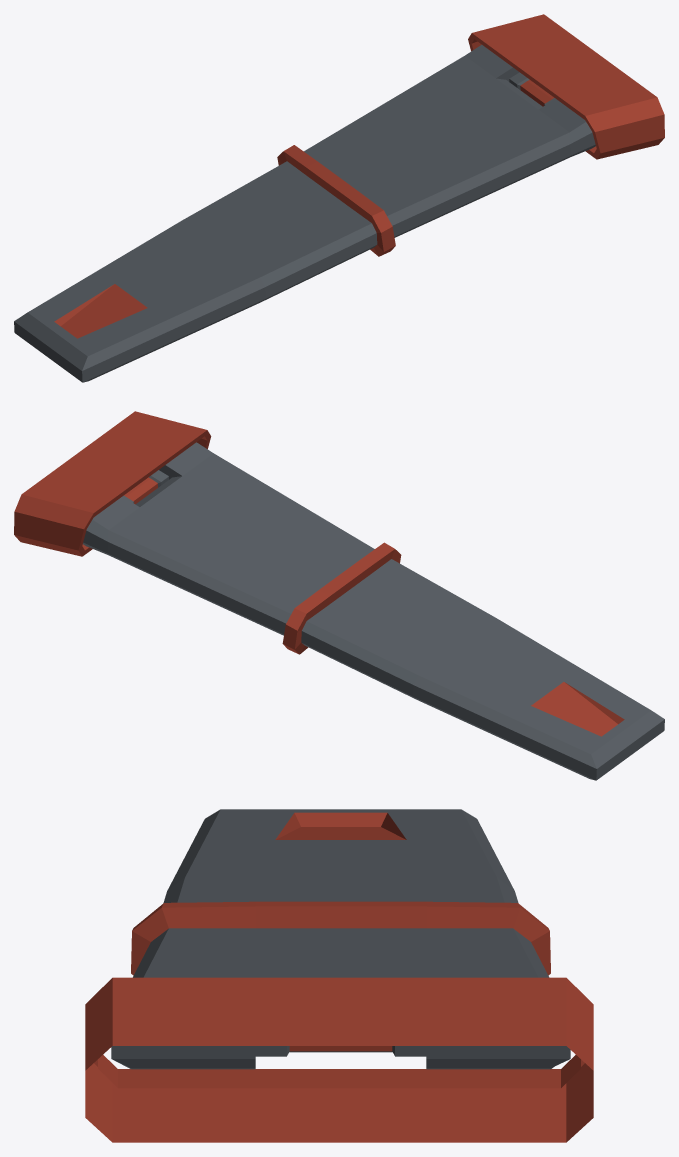
File: Fighter_04_Small_Wing_Right_Red.fbx
3 views of the same model, one above another, from view 1: azimuth 30°, elevation 25°; view 2: azimuth 150°, elevation 25°; view 3: azimuth 270°, elevation 25° (orthographic). The views are drawn at different scales.
Parts seen in each view (by area): view 1: Fighter_04_Small_Wing_Right_Red; view 2: Fighter_04_Small_Wing_Right_Red; view 3: Fighter_04_Small_Wing_Right_Red.
Part boxes in pixels (bbox=[...]): Fighter_04_Small_Wing_Right_Red: bbox=[14, 14, 664, 382]; Fighter_04_Small_Wing_Right_Red: bbox=[14, 411, 664, 780]; Fighter_04_Small_Wing_Right_Red: bbox=[85, 809, 593, 1142].
Size of the model in its own units: 488 by 145 by 194.
1 material, 1 textured.
